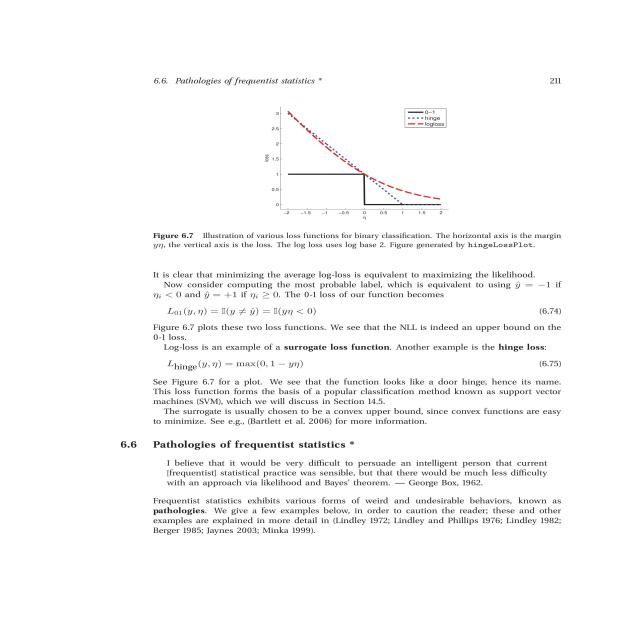diagram: (129, 71, 577, 259)
